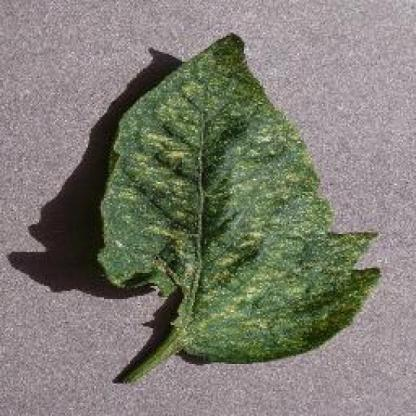Tomato_Spider_Mites: (98, 32, 379, 364)
